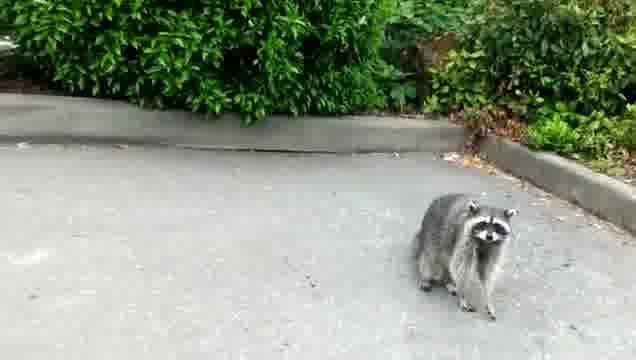raccoon: (410, 191, 521, 324)
